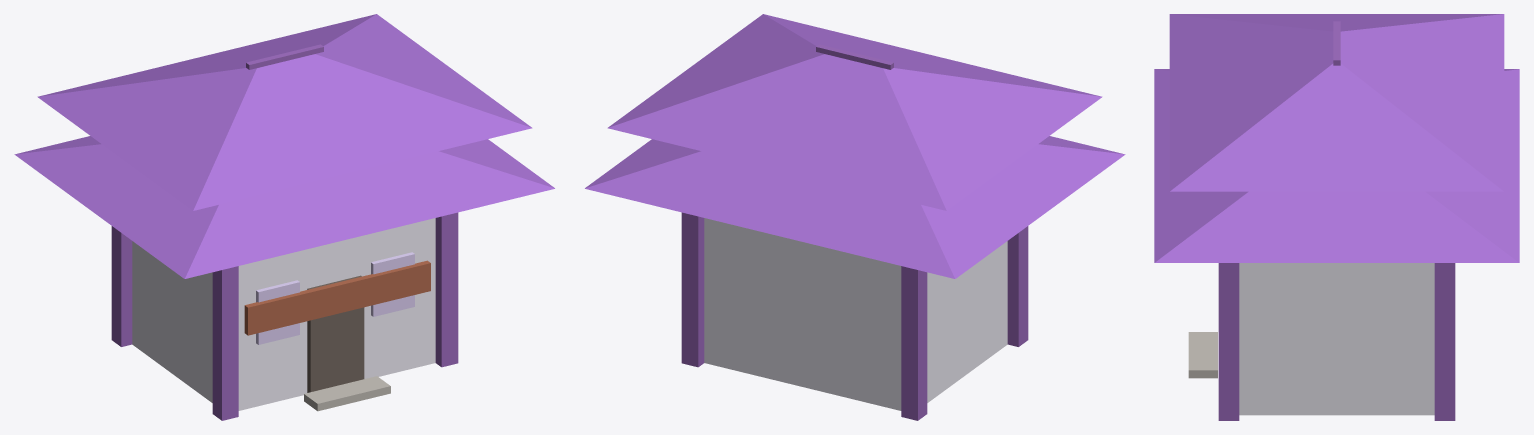
File: commercial_a.glb
The picture shows the model from 3 angles, left to right: view 1: azimuth 30°, elevation 25°; view 2: azimuth 150°, elevation 25°; view 3: azimuth 270°, elevation 25°; orthographic projection. The views are drawn at different scales.
Bounding box in the file's own units: 6.25 × 4.78 × 4.97.
